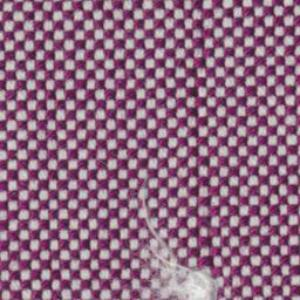fault: (132, 184, 226, 299)
